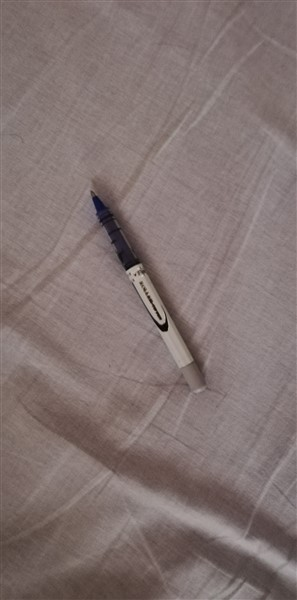pilot kalem: (84, 185, 217, 400)
